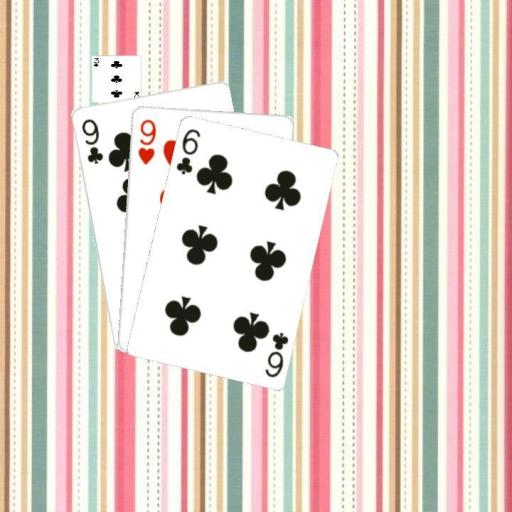6C: (173, 125, 202, 176), (262, 329, 289, 379)
9C: (78, 115, 105, 166)
9H: (135, 115, 158, 166)
